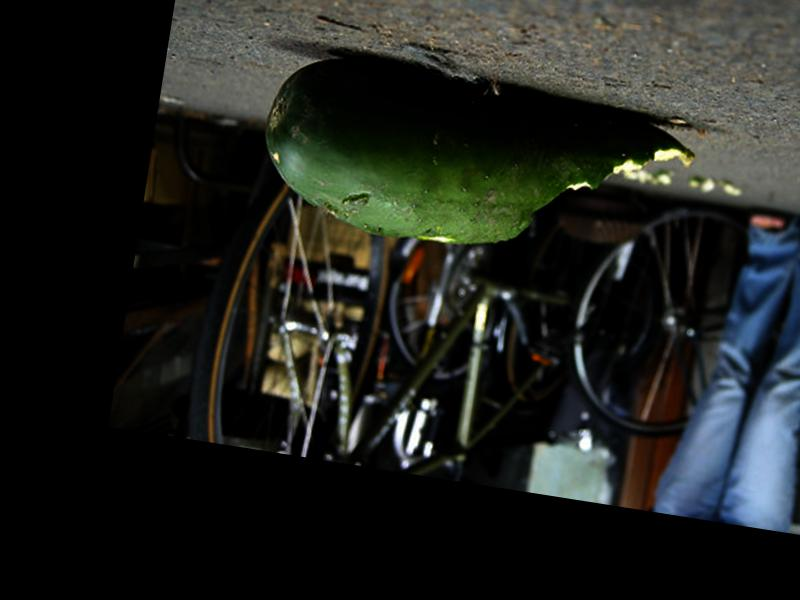Cucumber: (253, 49, 706, 280)
